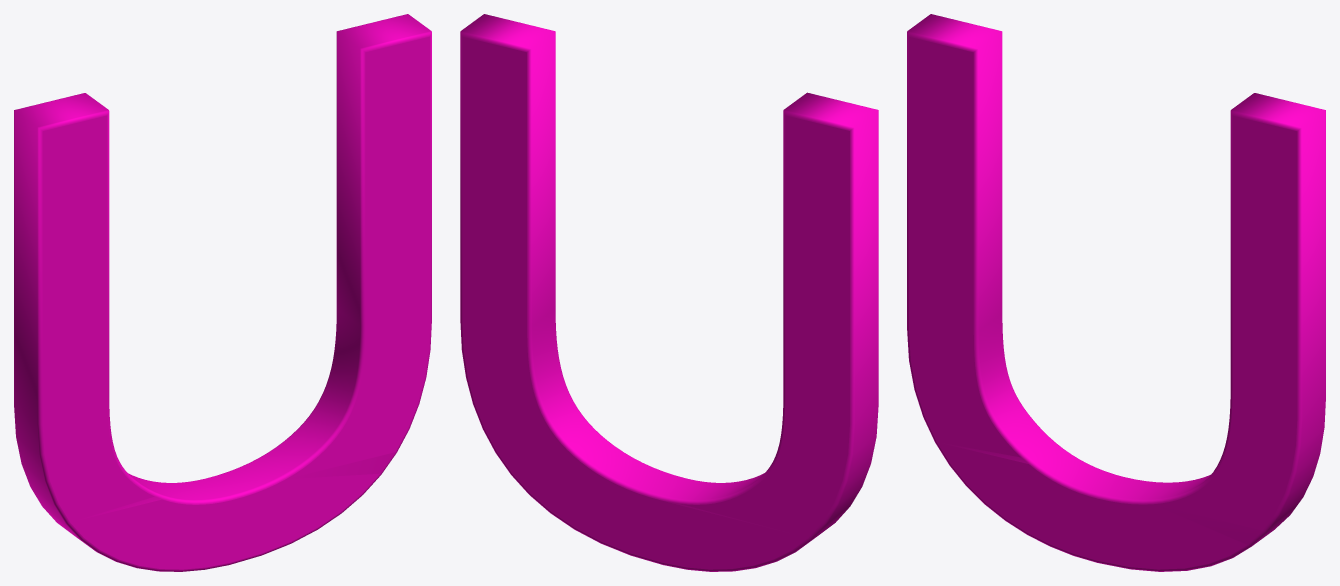
The picture shows the model from 3 angles, left to right: view 1: azimuth 30°, elevation 25°; view 2: azimuth 150°, elevation 25°; view 3: azimuth 330°, elevation 25°; orthographic projection.
Visible parts, largest first — view 1: UU; view 2: UU; view 3: UU.
Part boxes in pixels (x1,y1,x2,y2): UU: (14,14,431,571); UU: (460,14,878,571); UU: (907,14,1325,571).
Size of the model in its own units: 0.4258 by 0.5 by 0.0502.
